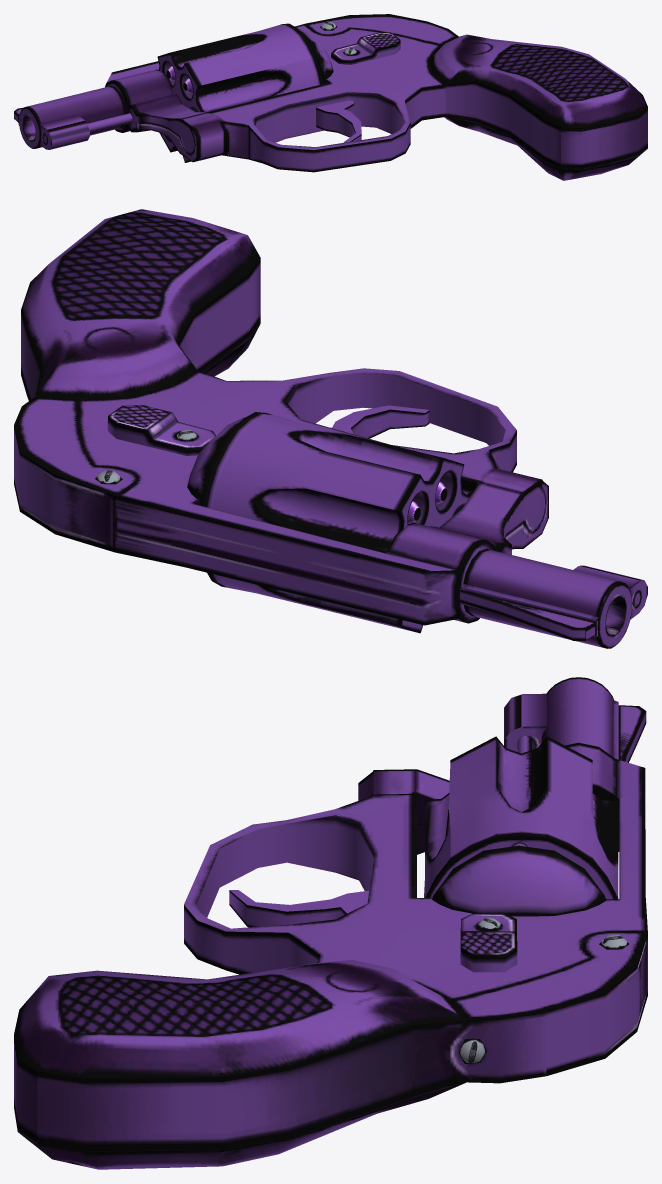
Rendered from MistaGun.fbx.
3 renders of one model, top to bottom at view 1: azimuth 30°, elevation 25°; view 2: azimuth 150°, elevation 25°; view 3: azimuth 270°, elevation 25°, orthographic. The views are drawn at different scales.
Visible parts, largest first — view 1: Mista.024; view 2: Mista.024; view 3: Mista.024.
Part boxes in pixels (bbox=[...]): Mista.024: bbox=[14, 14, 647, 180]; Mista.024: bbox=[14, 209, 647, 648]; Mista.024: bbox=[14, 677, 647, 1169].
Bounding box in the file's own units: 2220 × 461 × 1471.
